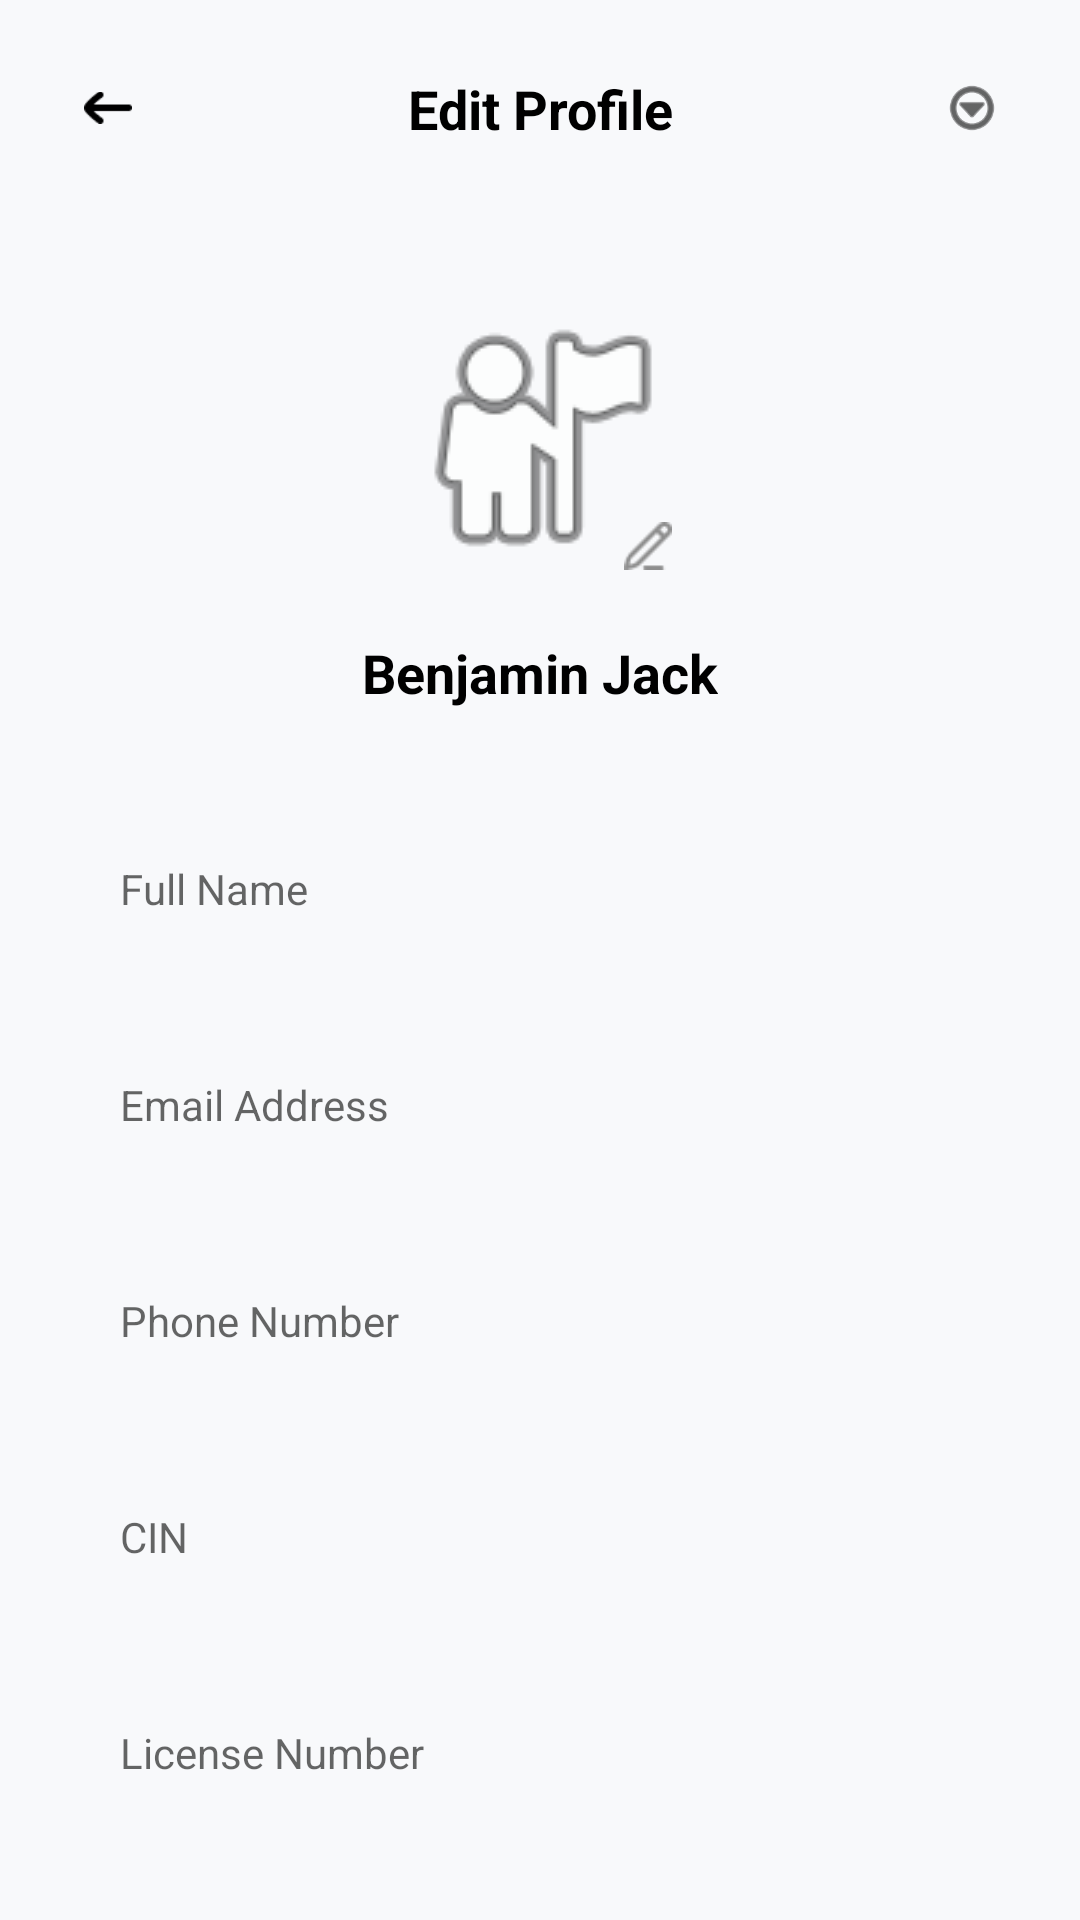

Icon click points for this 1080w x 1920h phone screenshot, format [x,y]:
Menu: [972,108]
